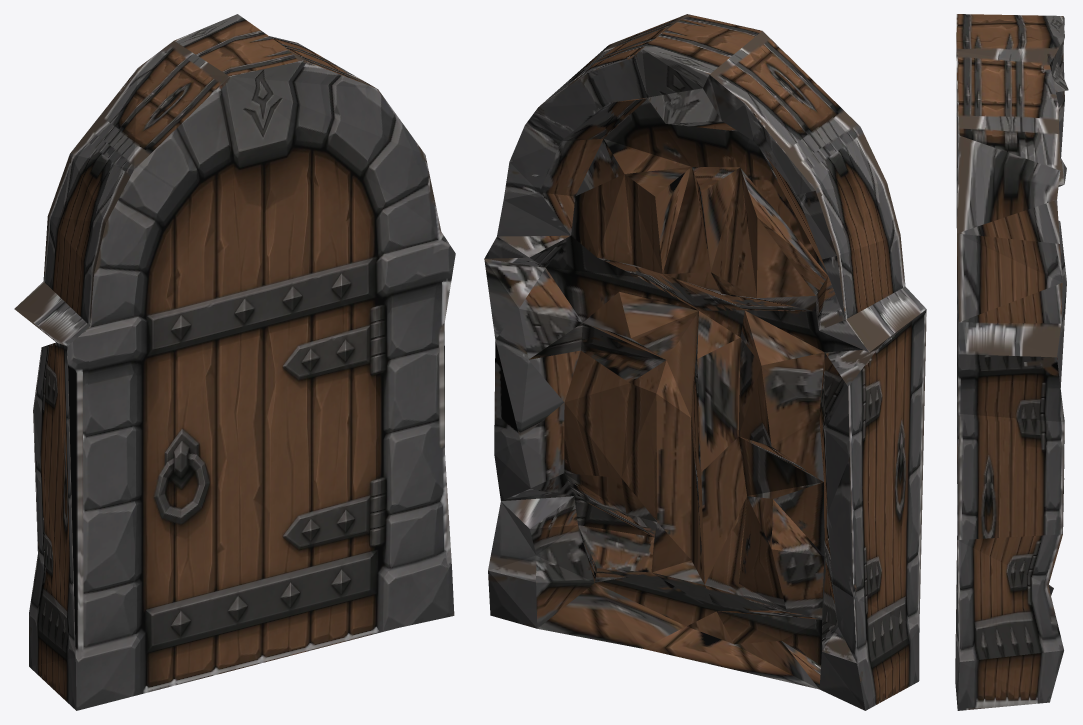
Rendered from SM_Dungeon_Door_A_LOD2.glb.
The picture shows the model from 3 angles, left to right: view 1: azimuth 30°, elevation 25°; view 2: azimuth 150°, elevation 25°; view 3: azimuth 270°, elevation 25°; orthographic projection. The views are drawn at different scales.
Visible parts, largest first — view 1: SM_Dungeon_Door_A_LOD2; view 2: SM_Dungeon_Door_A_LOD2; view 3: SM_Dungeon_Door_A_LOD2.
Part boxes in pixels (x1=…): SM_Dungeon_Door_A_LOD2: x1=14, y1=14, x2=455, y2=710; SM_Dungeon_Door_A_LOD2: x1=484, y1=14, x2=926, y2=710; SM_Dungeon_Door_A_LOD2: x1=955, y1=14, x2=1068, y2=710.
Bounding box in the file's own units: 2 × 2.98 × 0.5136.
Materials: 1 (1 with a texture image).
